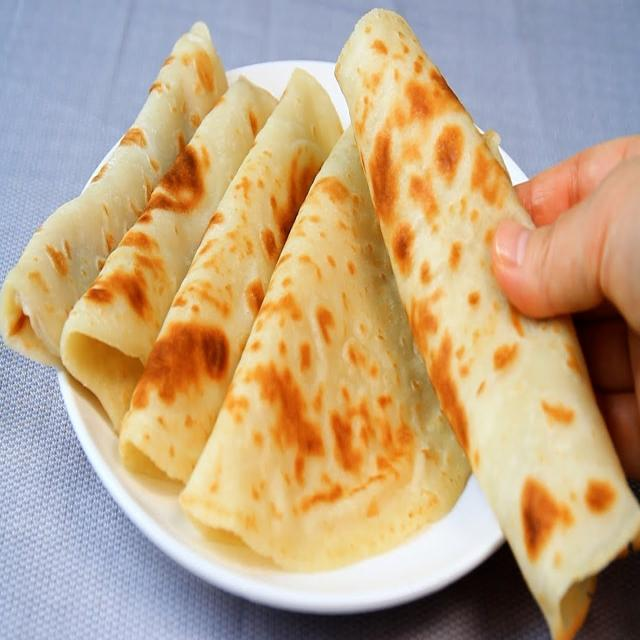chapathi: (328, 0, 640, 640), (199, 95, 469, 570), (131, 45, 337, 490), (31, 66, 271, 442), (0, 18, 212, 364)
